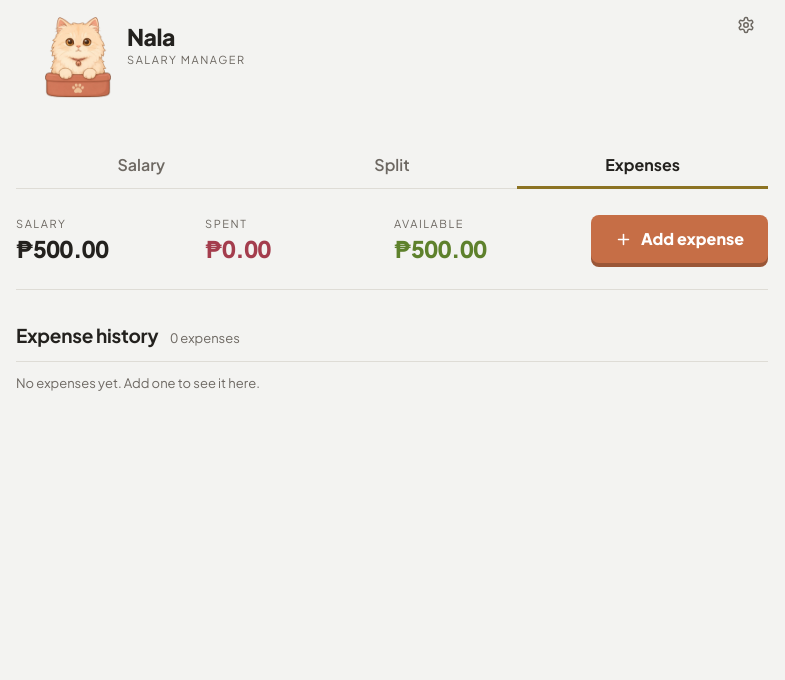
it: expense tracking in App › loads an old config without expenses as an empty history
Check: the text "No expenses yet. Add one to see it here." is shown, box [16, 374, 260, 390]
Check: the text "₱0.00" is shown, box [205, 234, 271, 263]
Click the tab "Salary". click: click(141, 167)
box: [16, 145, 267, 189]
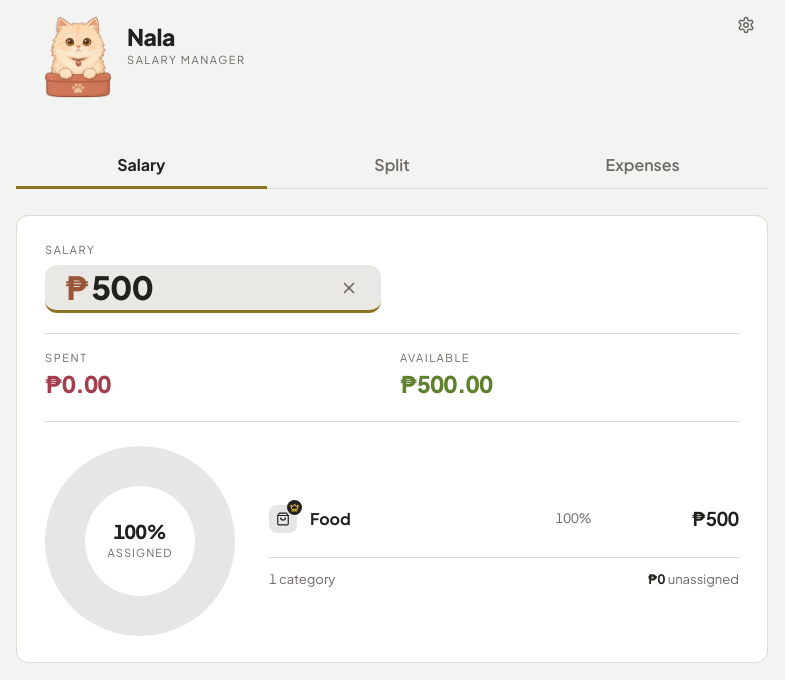
Check: the field named "Take-home pay in pesos" holds "500", box [91, 271, 315, 305]
